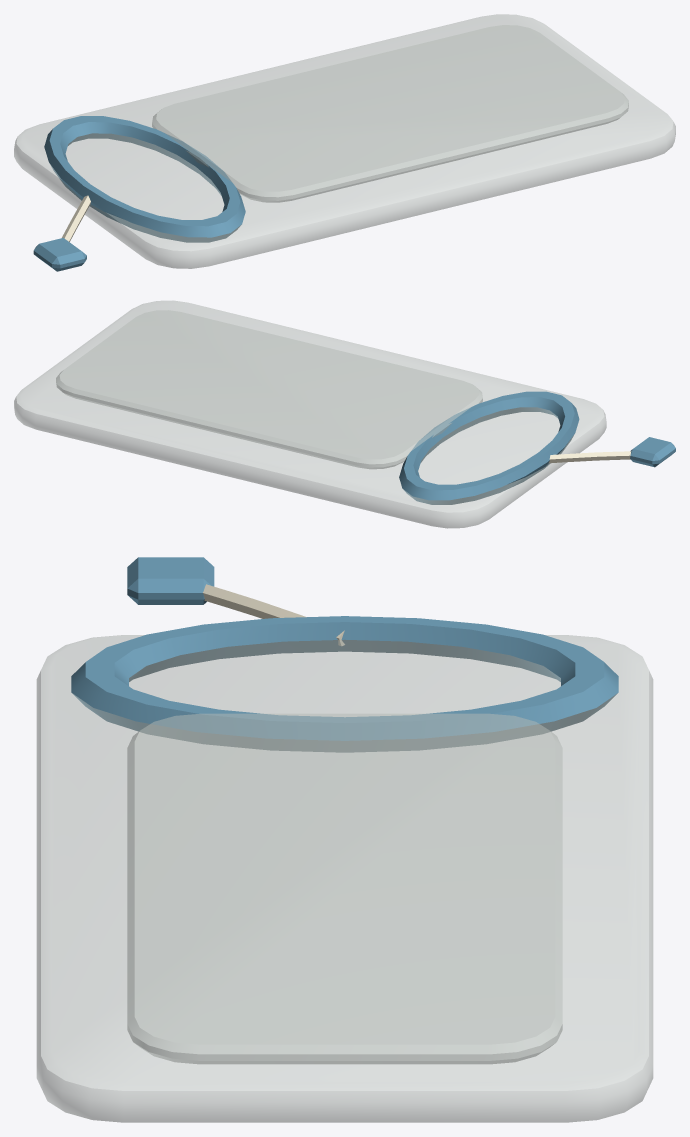
Rendered from sc-specimen-bag.glb.
3 views of the same model, one above another, from view 1: azimuth 30°, elevation 25°; view 2: azimuth 150°, elevation 25°; view 3: azimuth 270°, elevation 25° (orthographic). The views are drawn at different scales.
Parts seen in each view (by area): view 1: sc-specimen-bag; view 2: sc-specimen-bag; view 3: sc-specimen-bag.
Part boxes in pixels (x1=…): sc-specimen-bag: x1=14, y1=14, x2=675, y2=271; sc-specimen-bag: x1=14, y1=300, x2=675, y2=528; sc-specimen-bag: x1=36, y1=557, x2=653, y2=1122.
Size of the model in its own units: 0.175 by 0.009 by 0.085.
